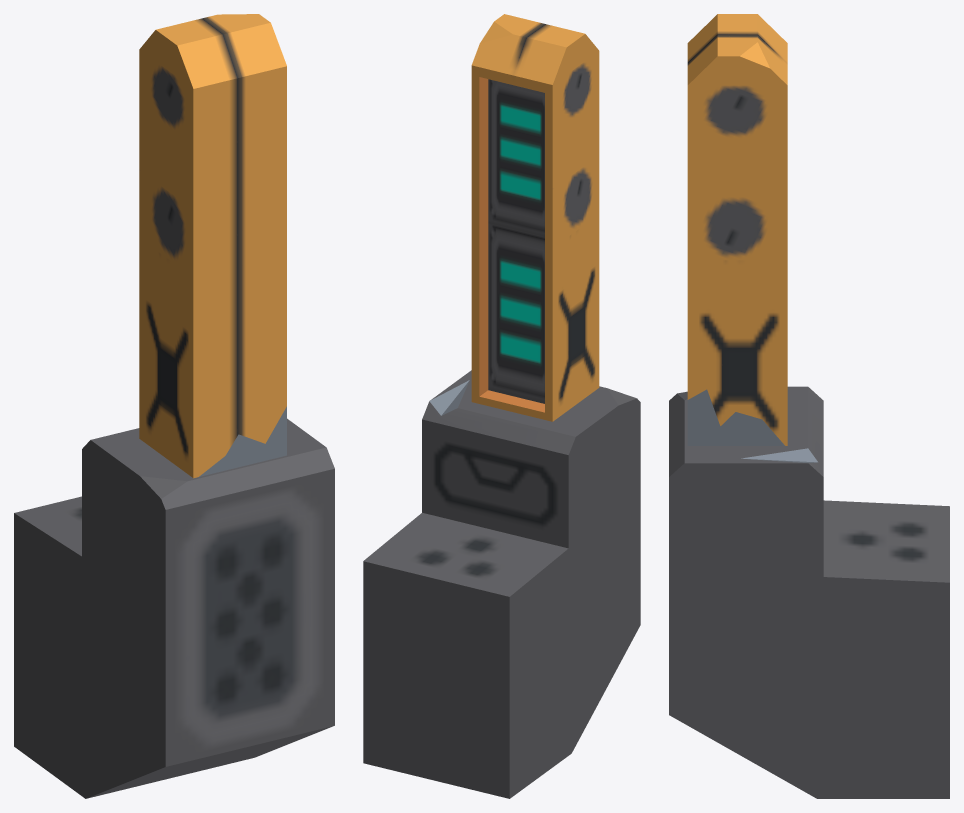
The model's file is SM_Bld_Railing_Pillar_Straight_01.fbx.
3 views of the same model, side by side, from view 1: azimuth 30°, elevation 25°; view 2: azimuth 150°, elevation 25°; view 3: azimuth 270°, elevation 25° (orthographic). The views are drawn at different scales.
Visible parts, largest first — view 1: SM_Bld_Railing_Pillar_Straight_01; view 2: SM_Bld_Railing_Pillar_Straight_01; view 3: SM_Bld_Railing_Pillar_Straight_01.
Boxes of the visible parts, <box> form: SM_Bld_Railing_Pillar_Straight_01: <box>14,14,334,798</box>; SM_Bld_Railing_Pillar_Straight_01: <box>363,14,640,798</box>; SM_Bld_Railing_Pillar_Straight_01: <box>669,14,949,798</box>.
Size of the model in its own units: 35.72 by 158 by 55.34.
